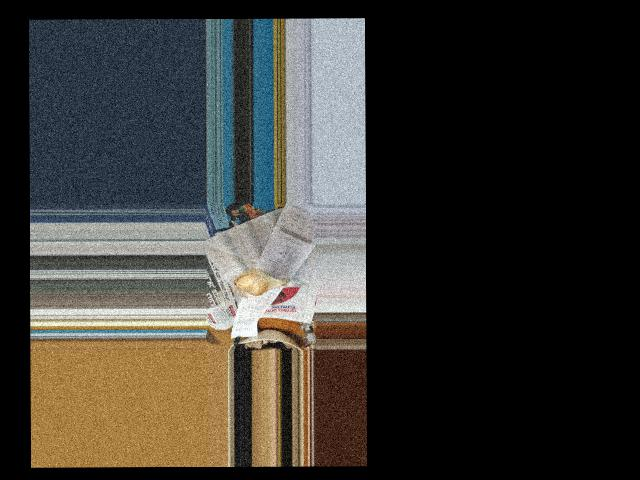onion: (233, 269, 279, 296)
